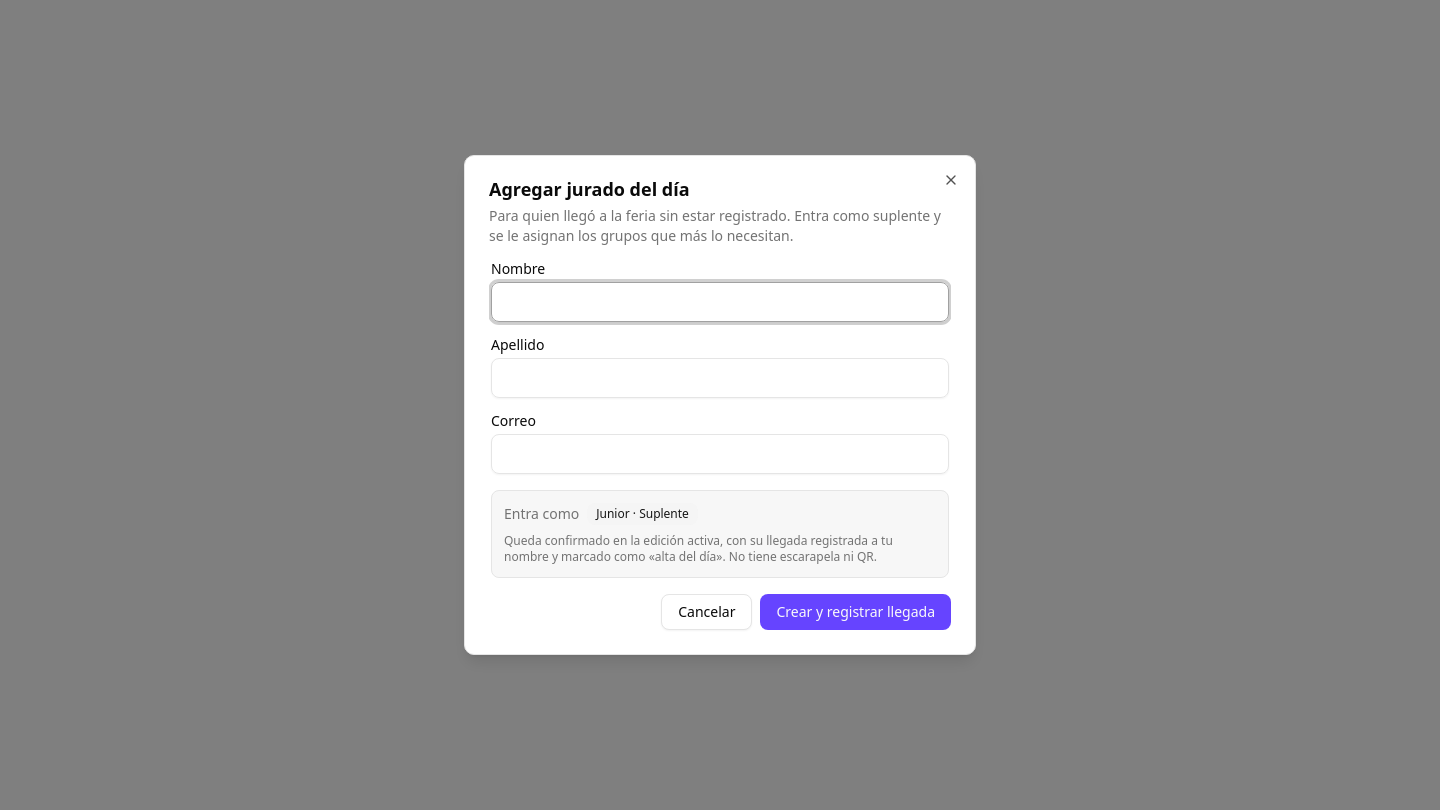
Test: Agregar jurado del día (HU-24, ARK-218) › reenvía el correo para crear la cuenta
The image size is (1440, 810).
In the field labelled "Nombre": (720, 302) [491,282,949,322], type "Laura"
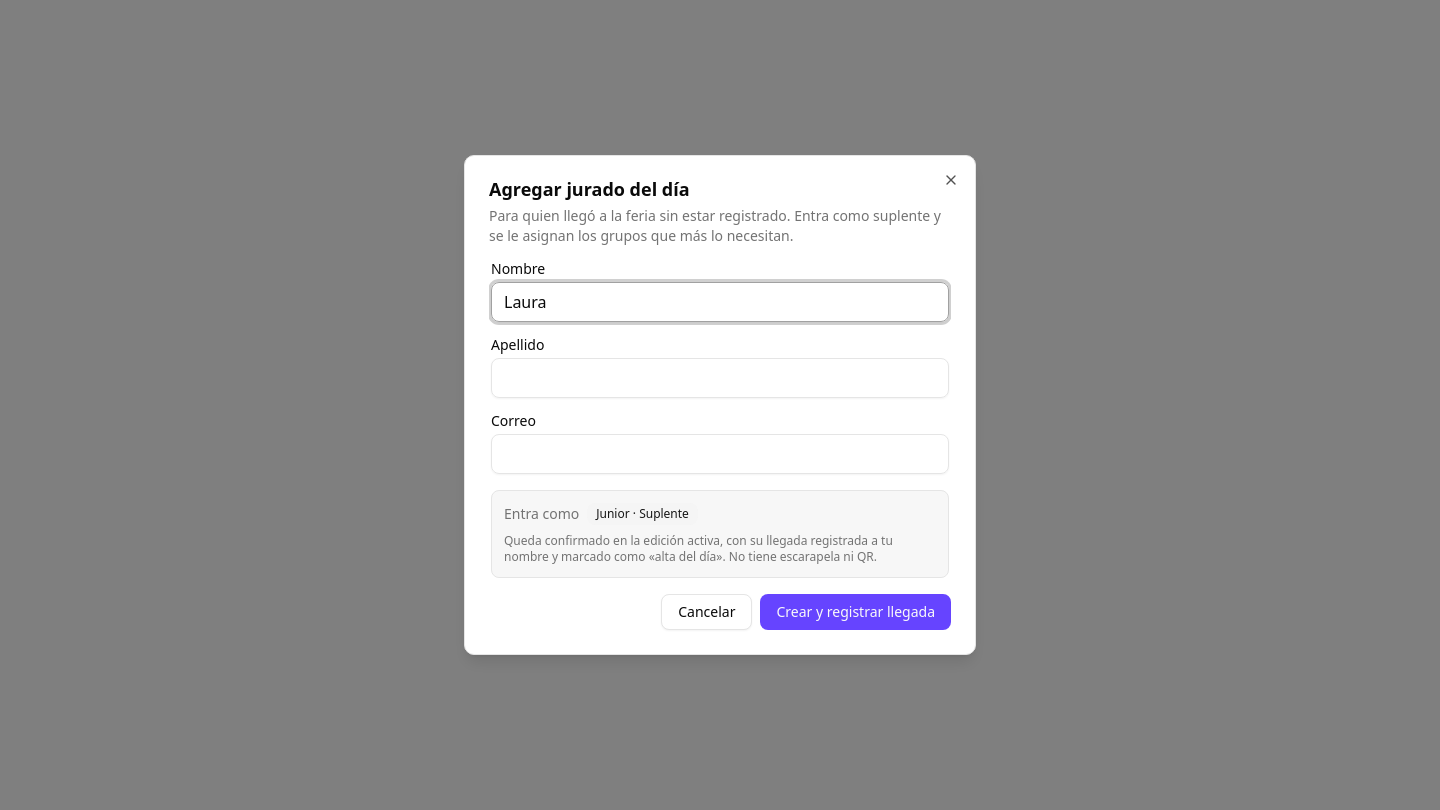
In the field labelled "Apellido": (720, 378) [491,358,949,398], type "Gómez Ruiz"
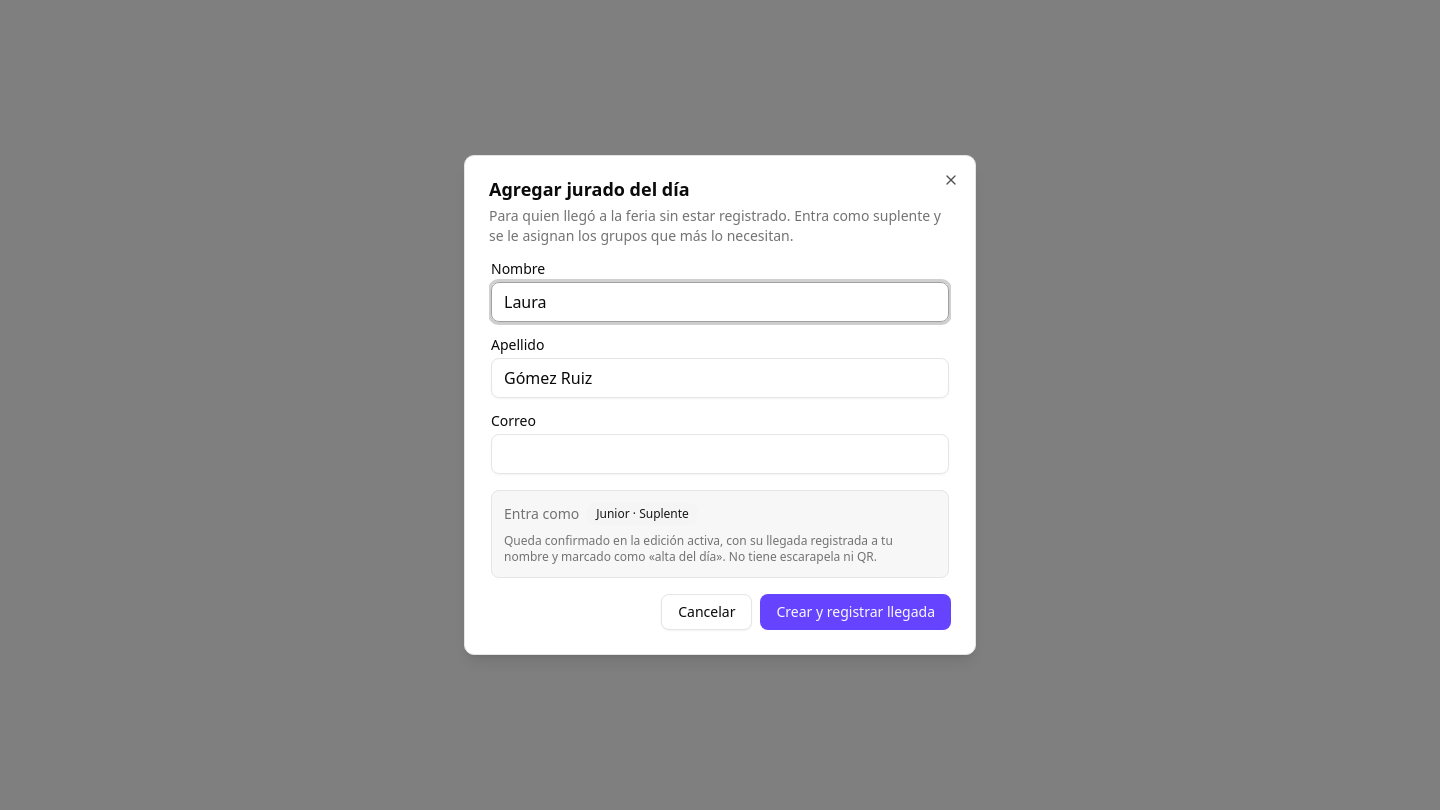
In the field labelled "Correo": (720, 454) [491,434,949,474], type "laura@ejemplo.com"
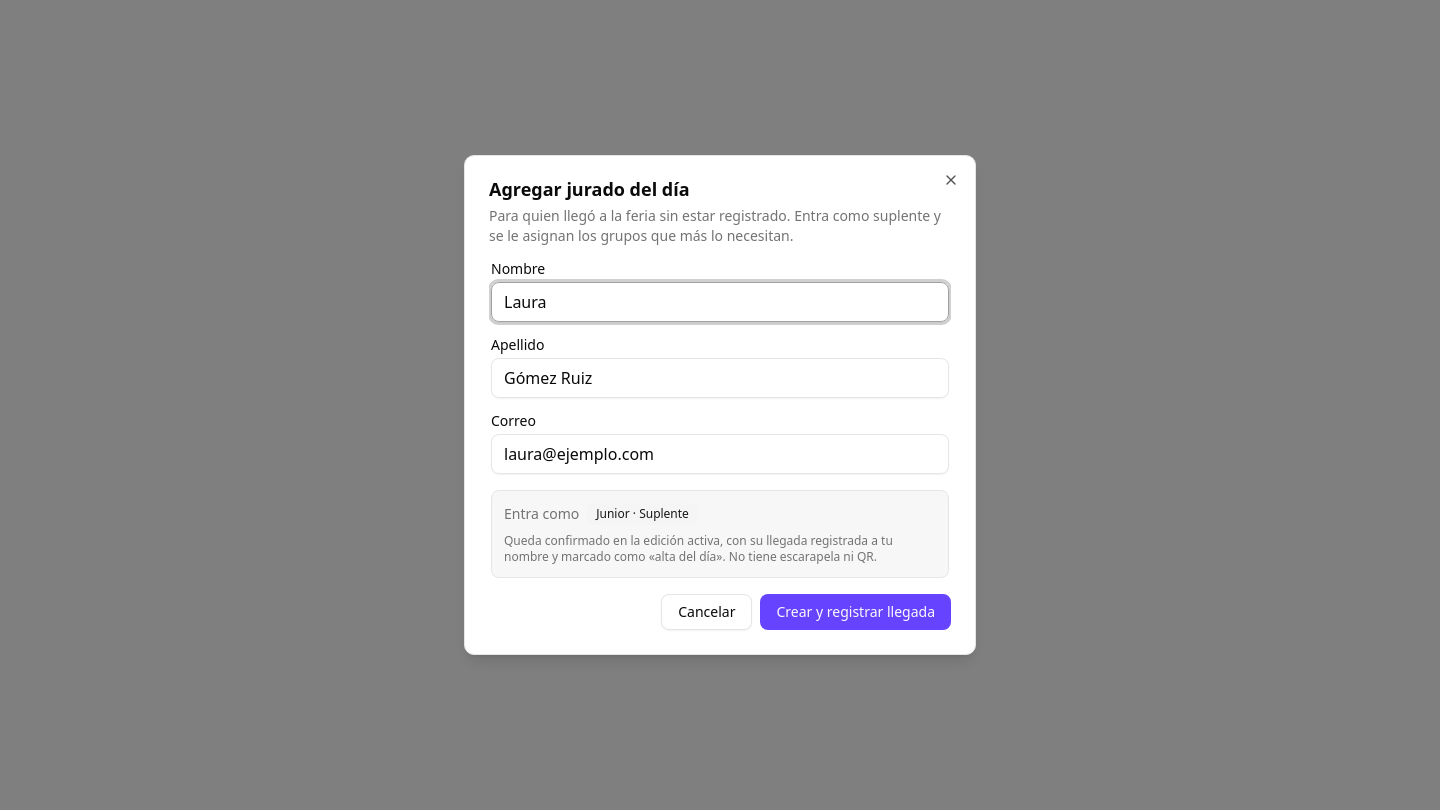
Click the button "Crear y registrar llegada": (856, 612) [760,594,951,630]
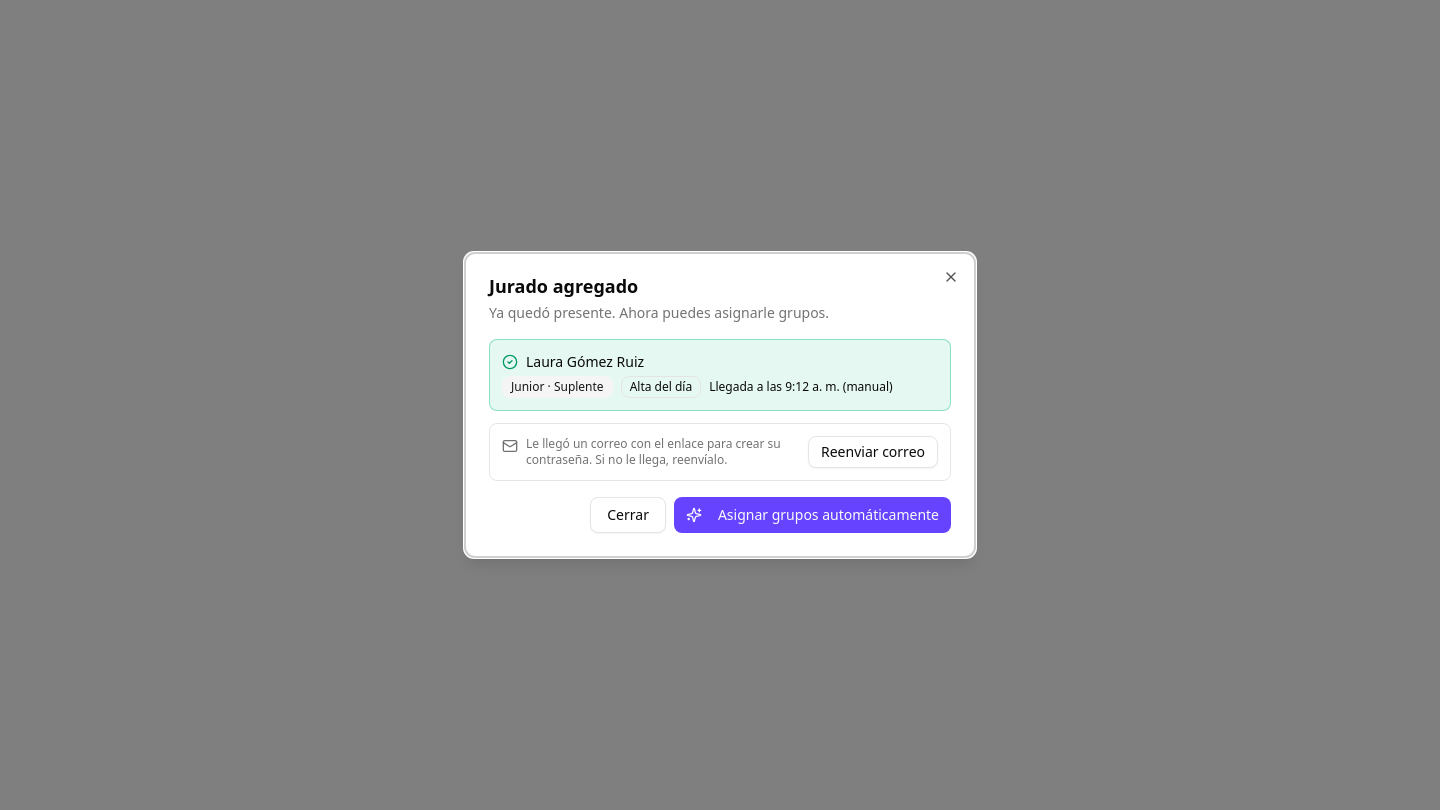
Click the button "Reenviar correo": (873, 452) [808,436,938,468]
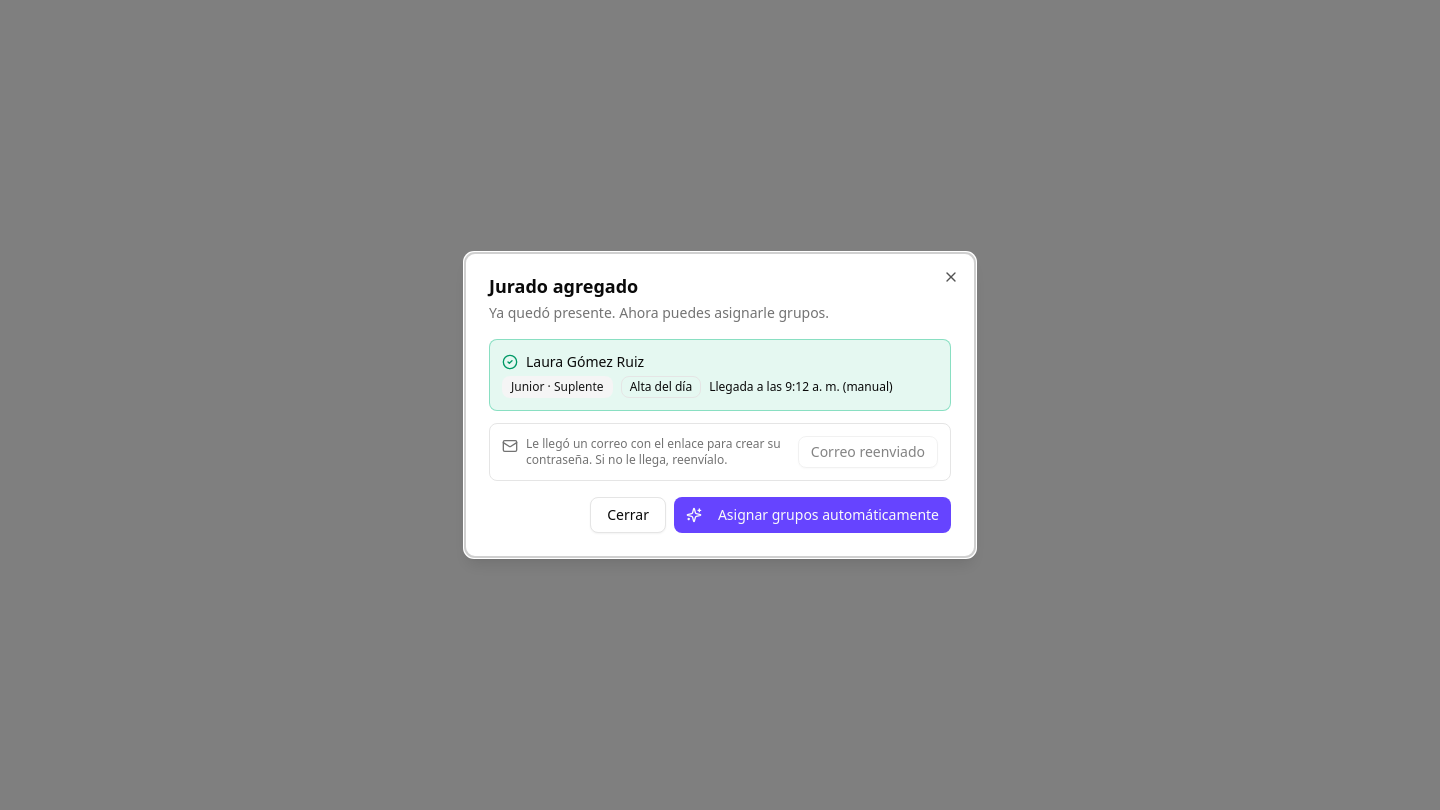
Check: the button "Correo reenviado" is disabled, box [798,436,938,468]
